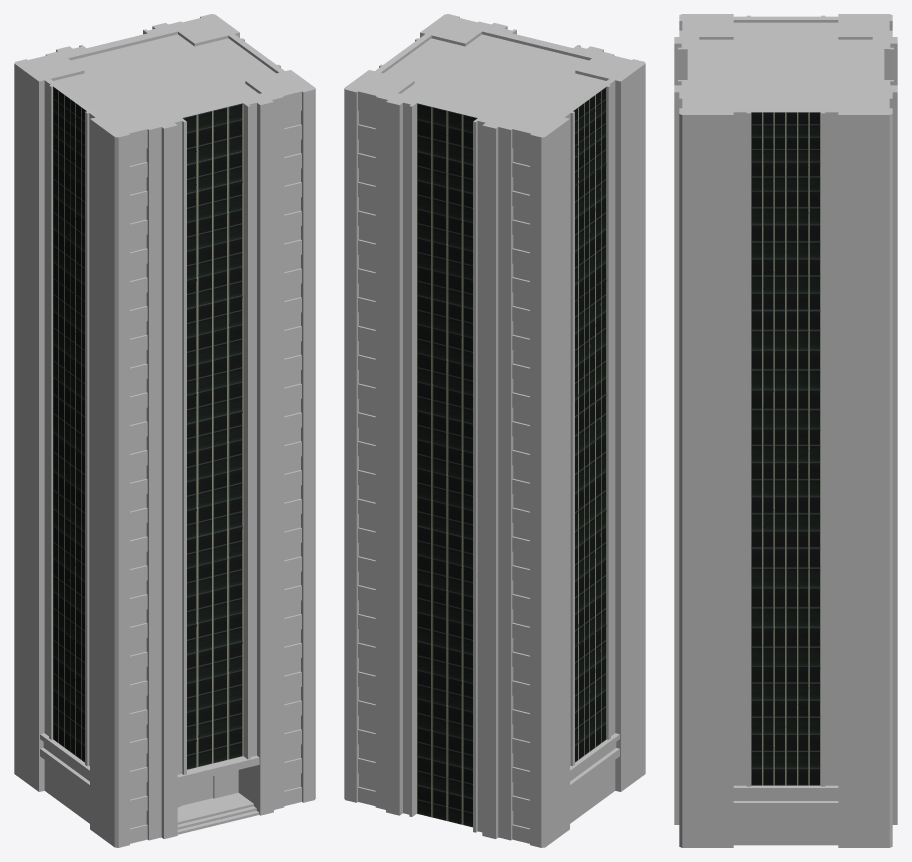
The picture shows the model from 3 angles, left to right: view 1: azimuth 30°, elevation 25°; view 2: azimuth 150°, elevation 25°; view 3: azimuth 270°, elevation 25°; orthographic projection. The views are drawn at different scales.
Parts seen in each view (by area): view 1: Building; view 2: Building; view 3: Building.
Part boxes in pixels (x1,y1,x2,y2): Building: [14, 14, 315, 847]; Building: [344, 14, 645, 847]; Building: [674, 14, 897, 847].
Size of what is drawn, in the model's own units: 21.9 by 74 by 20.42.
